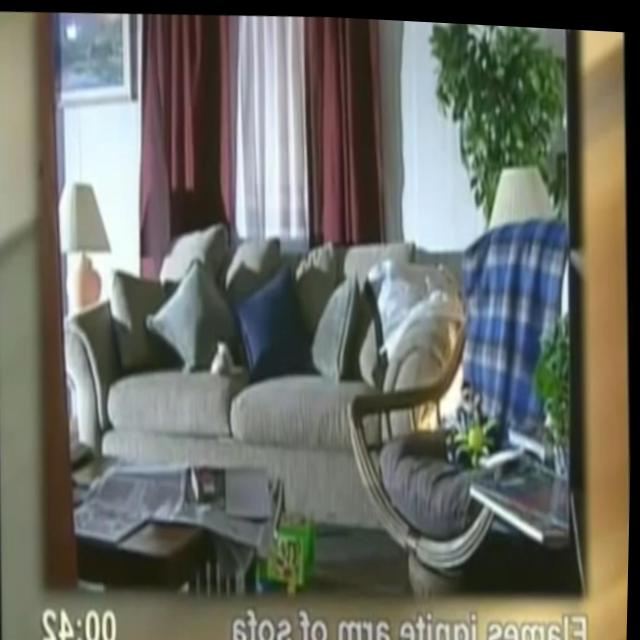fire: (418, 301, 472, 425)
